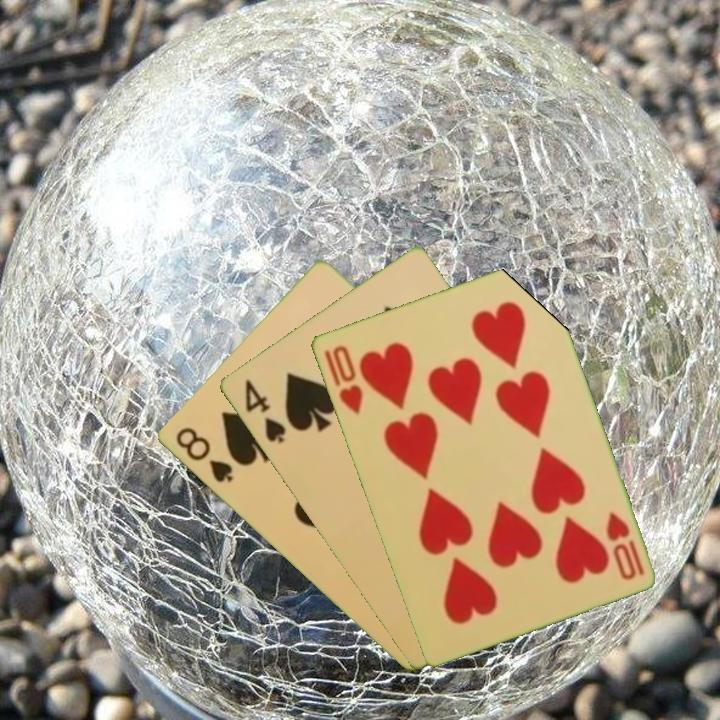10h: (320, 341, 366, 418), (602, 507, 647, 583)
4s: (240, 375, 289, 446)
8s: (171, 423, 236, 486)
